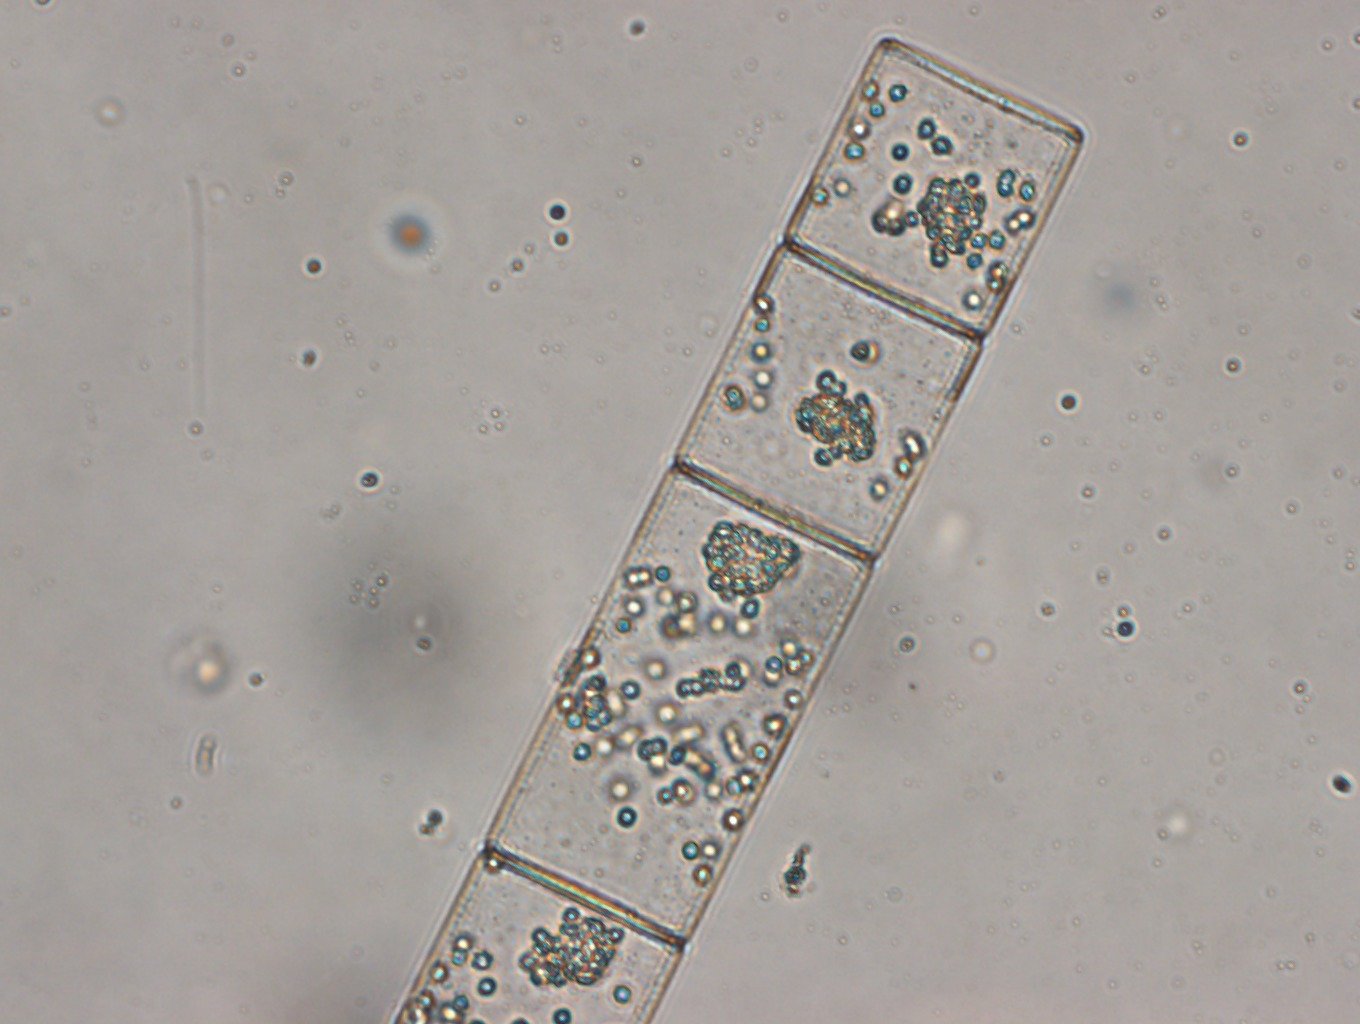guinardia flaccida: (391, 33, 1085, 1024)
